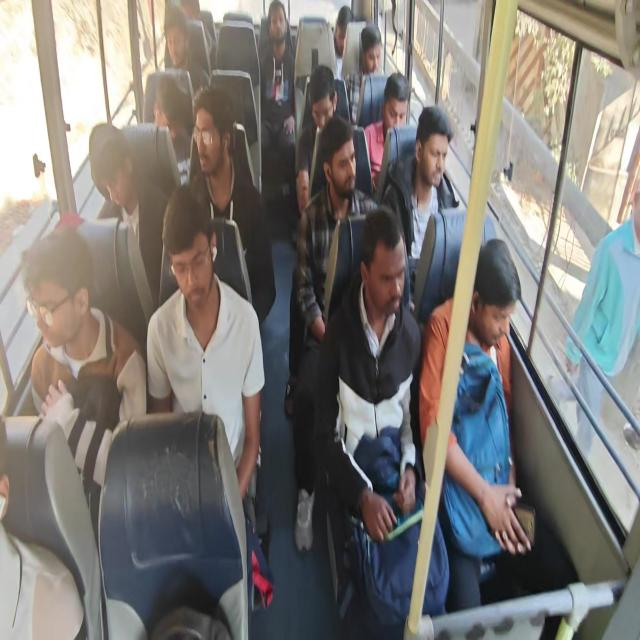person: (313, 205, 450, 636), (418, 236, 535, 610), (146, 184, 265, 532), (286, 115, 379, 553), (21, 224, 147, 544), (565, 161, 639, 457), (187, 85, 276, 327), (87, 121, 178, 351), (0, 415, 87, 639), (382, 104, 458, 307), (258, 1, 297, 220), (295, 64, 339, 214), (363, 71, 410, 191), (152, 74, 195, 187), (162, 5, 206, 95), (344, 23, 383, 124), (332, 5, 353, 79), (360, 24, 382, 76)
